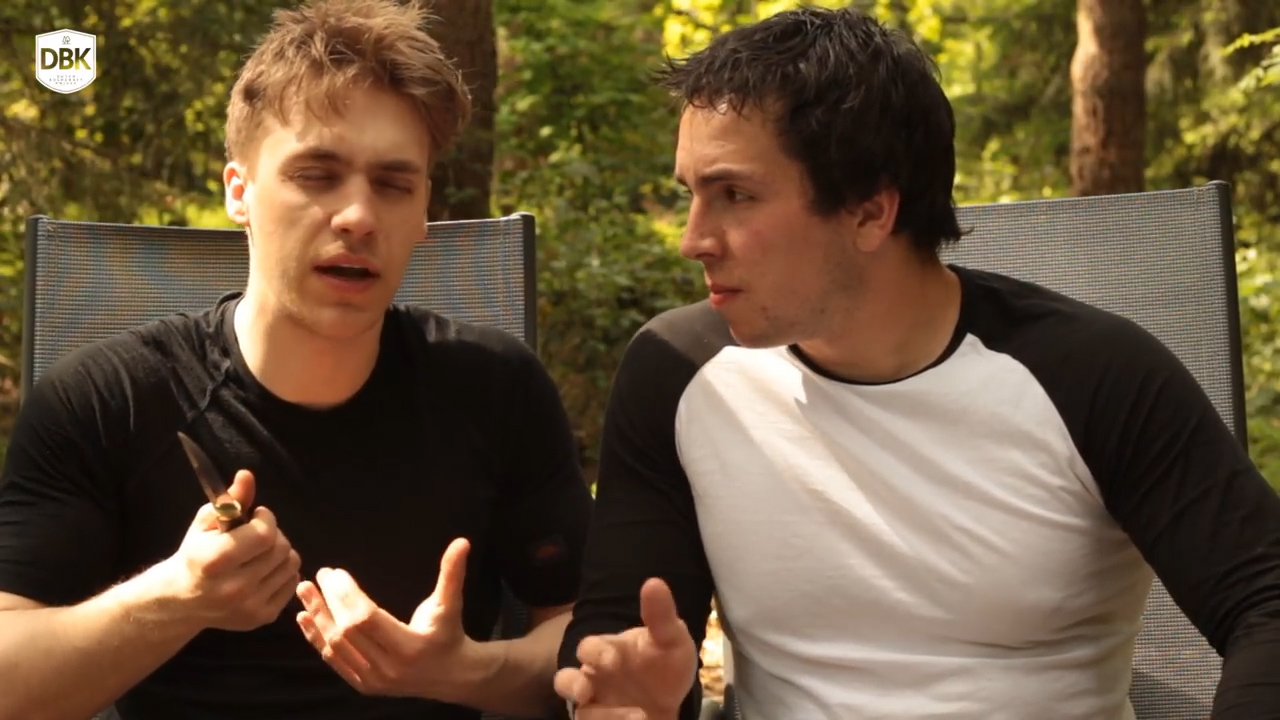knife: (164, 412, 300, 564)
